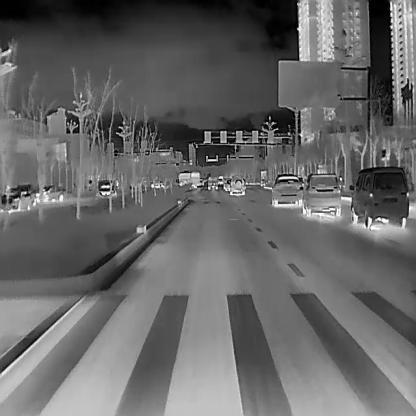car: (349, 165, 409, 227), (298, 173, 340, 216), (271, 173, 303, 206), (0, 183, 35, 212), (35, 184, 64, 202), (177, 170, 199, 188), (98, 179, 117, 197), (229, 174, 244, 195), (149, 181, 165, 189), (208, 175, 217, 189)
